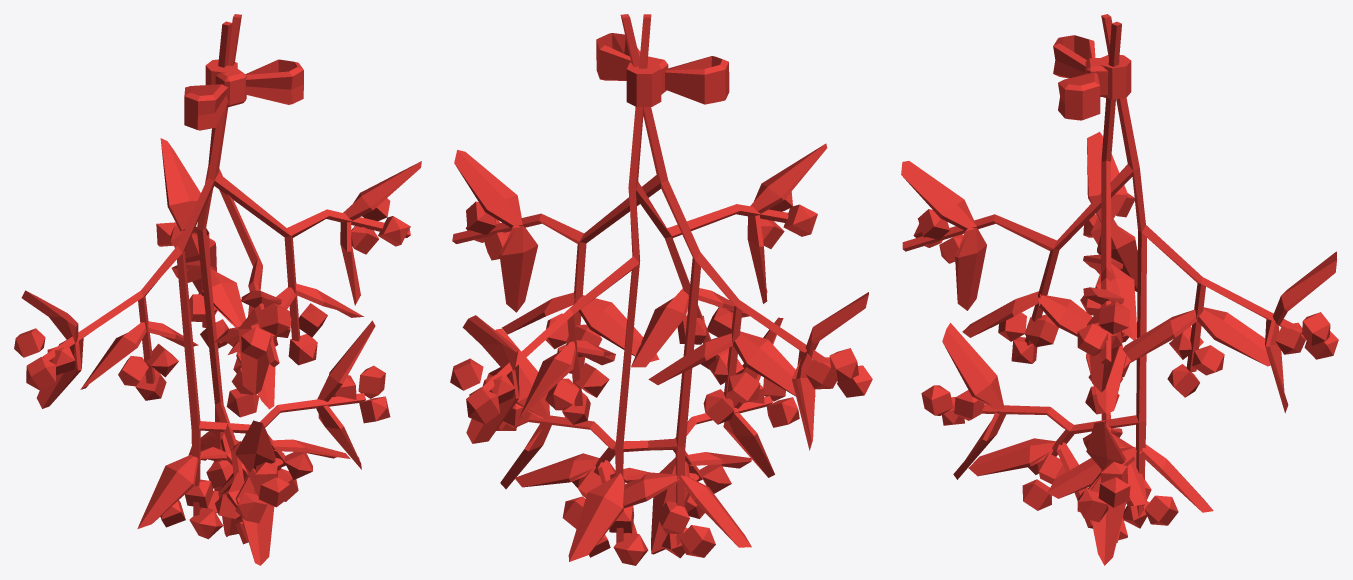
Rendered from SM_Mistletoe_A.fbx.
The picture shows the model from 3 angles, left to right: view 1: azimuth 30°, elevation 25°; view 2: azimuth 150°, elevation 25°; view 3: azimuth 270°, elevation 25°; orthographic projection. The views are drawn at different scales.
Parts seen in each view (by area): view 1: mistletoe-a; view 2: mistletoe-a; view 3: mistletoe-a.
Part boxes in pixels (bbox=[...]): mistletoe-a: bbox=[14, 14, 421, 565]; mistletoe-a: bbox=[450, 14, 872, 565]; mistletoe-a: bbox=[901, 14, 1338, 565].
Size of the model in its own units: 0.4189 by 0.5192 by 0.4005.
